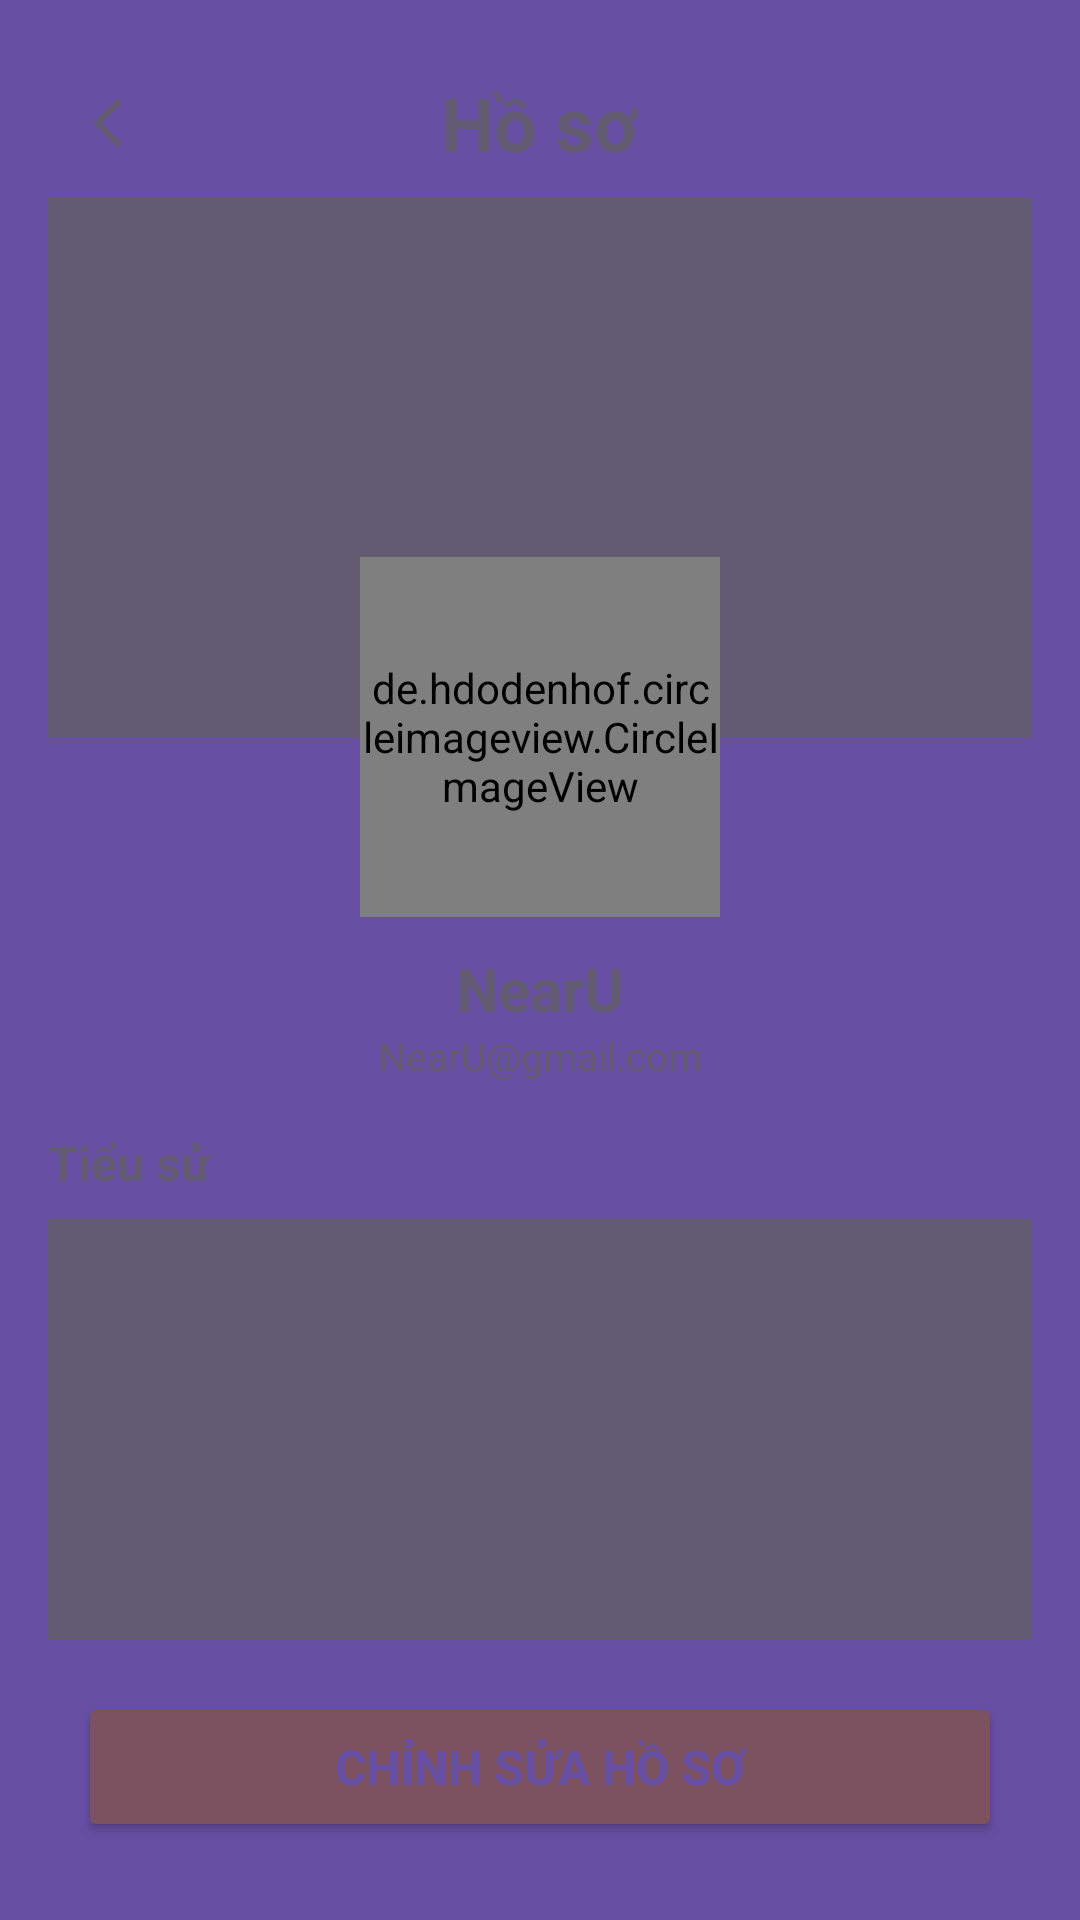

Icons on this 1080 x 1920 Android screen, each with its box as detection(x1, y1, x2, y2):
back: detection(93, 98, 122, 148)
